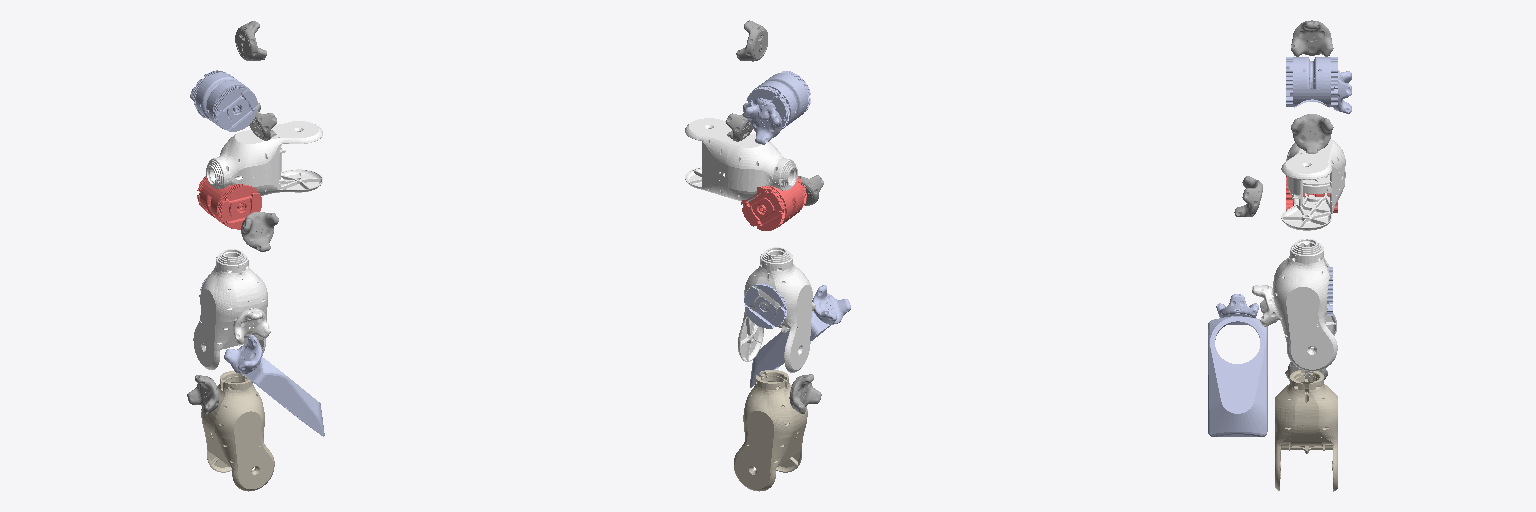
The robot description file, URDF, robot "koko_description_sevendof_kin":
<robot
  name="koko_description_sevendof_kin">
  <link
    name="base_link">
    <inertial>
      <origin
        xyz="0.0560024374186662 0.000189445541681321 0.0201835602327798"
        rpy="0 0 0" />
      <mass
        value="0.284612172465311" />
      <inertia
        ixx="0.000716950374478633"
        ixy="-4.58477843167977E-06"
        ixz="4.20772050305918E-06"
        iyy="0.00197711566495113"
        iyz="9.13561852910004E-07"
        izz="0.00239705630031167" />
    </inertial>
    <visual>
      <origin
        xyz="0 0 0"
        rpy="0 0 0" />
      <geometry>
        <mesh
          filename="package://koko_description_sevendof_kin/meshes/base_link.STL" />
      </geometry>
      <material
        name="">
        <color
          rgba="0.792156862745098 0.819607843137255 0.933333333333333 1" />
      </material>
    </visual>
    <collision>
      <origin
        xyz="0 0 0"
        rpy="0 0 0" />
      <geometry>
        <mesh
          filename="package://koko_description_sevendof_kin/meshes/base_link.STL" />
      </geometry>
    </collision>
  </link>
  <link
    name="shoulder_link">
    <inertial>
      <origin
        xyz="0.00434775413891728 2.01234773867243E-05 -0.0764683318824378"
        rpy="0 0 0" />
      <mass
        value="1.80901122392277" />
      <inertia
        ixx="0.00919374569832913"
        ixy="1.2736226369809E-08"
        ixz="0.000102478650618865"
        iyy="0.0087191738814553"
        iyz="3.26622166776887E-06"
        izz="0.00388062453030108" />
    </inertial>
    <visual>
      <origin
        xyz="0 0 0"
        rpy="0 0 0" />
      <geometry>
        <mesh
          filename="package://koko_description_sevendof_kin/meshes/shoulder_link.STL" />
      </geometry>
      <material
        name="">
        <color
          rgba="0.843137254901961 0.815686274509804 0.752941176470588 1" />
      </material>
    </visual>
    <collision>
      <origin
        xyz="0 0 0"
        rpy="0 0 0" />
      <geometry>
        <mesh
          filename="package://koko_description_sevendof_kin/meshes/shoulder_link.STL" />
      </geometry>
    </collision>
  </link>
  <joint
    name="base_roll_joint"
    type="revolute">
    <origin
      xyz="0 0 0.054356"
      rpy="3.1416 -2.2011E-29 0" />
    <parent
      link="base_link" />
    <child
      link="shoulder_link" />
    <axis
      xyz="0 0 1" />
    <limit
      lower="-2.3412"
      upper="3.3999"
      effort="0"
      velocity="0" />
  </joint>
  <link
    name="shoulder_lift_link">
    <inertial>
      <origin
        xyz="-5.00835590801219E-06 0.000232928456050829 -1.77451392545103E-05"
        rpy="0 0 0" />
      <mass
        value="0.388307108622635" />
      <inertia
        ixx="0.000804272985961787"
        ixy="4.84548777861769E-08"
        ixz="2.09160815704299E-06"
        iyy="0.000818260636171892"
        iyz="-1.44954778547353E-08"
        izz="0.000550840705045093" />
    </inertial>
    <visual>
      <origin
        xyz="0 0 0"
        rpy="0 0 0" />
      <geometry>
        <mesh
          filename="package://koko_description_sevendof_kin/meshes/shoulder_lift_link.STL" />
      </geometry>
      <material
        name="">
        <color
          rgba="0.792156862745098 0.819607843137255 0.933333333333333 1" />
      </material>
    </visual>
    <collision>
      <origin
        xyz="0 0 0"
        rpy="0 0 0" />
      <geometry>
        <mesh
          filename="package://koko_description_sevendof_kin/meshes/shoulder_lift_link.STL" />
      </geometry>
    </collision>
  </link>
  <joint
    name="shoulder_lift_joint"
    type="revolute">
    <origin
      xyz="-0.01143 0 -0.21082"
      rpy="-1.5708 4.4409E-16 3.1416" />
    <parent
      link="shoulder_link" />
    <child
      link="shoulder_lift_link" />
    <axis
      xyz="0 0 1" />
    <limit
      lower="-2.2944"
      upper="0"
      effort="0"
      velocity="0" />
  </joint>
  <link
    name="upper_arm_link">
    <inertial>
      <origin
        xyz="0.00526564882010383 5.32997220916154E-05 -0.0641725544925976"
        rpy="0 0 0" />
      <mass
        value="1.52396434922932" />
      <inertia
        ixx="0.00578789299619112"
        ixy="1.90247544564575E-06"
        ixz="-6.31088150382613E-05"
        iyy="0.00530315640192364"
        iyz="1.26895334967034E-06"
        izz="0.00342501474672849" />
    </inertial>
    <visual>
      <origin
        xyz="0 0 0"
        rpy="0 0 0" />
      <geometry>
        <mesh
          filename="package://koko_description_sevendof_kin/meshes/upper_arm_link.STL" />
      </geometry>
      <material
        name="">
        <color
          rgba="1 1 1 1" />
      </material>
    </visual>
    <collision>
      <origin
        xyz="0 0 0"
        rpy="0 0 0" />
      <geometry>
        <mesh
          filename="package://koko_description_sevendof_kin/meshes/upper_arm_link.STL" />
      </geometry>
    </collision>
  </link>
  <joint
    name="shoulder_roll_joint"
    type="revolute">
    <origin
      xyz="0 0.070147 -6.25E-05"
      rpy="-1.5708 1.5673 -3.1416" />
    <parent
      link="shoulder_lift_link" />
    <child
      link="upper_arm_link" />
    <axis
      xyz="0 0 1" />
    <limit
      lower="-2.6761"
      upper="2.6761"
      effort="0"
      velocity="0" />
  </joint>
  <link
    name="upper_arm_lift_link">
    <inertial>
      <origin
        xyz="9.02313812556343E-09 -0.00233330223507322 -1.63699447163213E-05"
        rpy="0 0 0" />
      <mass
        value="0.336087766639304" />
      <inertia
        ixx="0.000748389835750991"
        ixy="-4.48808711468882E-12"
        ixz="2.09357125066285E-06"
        iyy="0.000805057710272214"
        iyz="-3.6140426110768E-08"
        izz="0.000495723702697915" />
    </inertial>
    <visual>
      <origin
        xyz="0 0 0"
        rpy="0 0 0" />
      <geometry>
        <mesh
          filename="package://koko_description_sevendof_kin/meshes/upper_arm_lift_link.STL" />
      </geometry>
      <material
        name="">
        <color
          rgba="1 0.501960784313725 0.501960784313725 1" />
      </material>
    </visual>
    <collision>
      <origin
        xyz="0 0 0"
        rpy="0 0 0" />
      <geometry>
        <mesh
          filename="package://koko_description_sevendof_kin/meshes/upper_arm_lift_link.STL" />
      </geometry>
    </collision>
  </link>
  <joint
    name="elbow_lift_joint"
    type="revolute">
    <origin
      xyz="-0.01143 -4.0407E-05 -0.18056"
      rpy="-1.5708 -8.5189E-16 -3.1381" />
    <parent
      link="upper_arm_link" />
    <child
      link="upper_arm_lift_link" />
    <axis
      xyz="0 0 1" />
    <limit
      lower="-2.2944"
      upper="0"
      effort="0"
      velocity="0" />
  </joint>
  <link
    name="forearm_link">
    <inertial>
      <origin
        xyz="0.00527282221737166 2.49933774366662E-05 -0.0641725728670135"
        rpy="0 0 0" />
      <mass
        value="1.52407731945949" />
      <inertia
        ixx="0.00578819901338735"
        ixy="5.17112689441557E-07"
        ixz="-6.28277548639294E-05"
        iyy="0.00530319085441348"
        iyz="1.13324488016115E-06"
        izz="0.003425664708797" />
    </inertial>
    <visual>
      <origin
        xyz="0 0 0"
        rpy="0 0 0" />
      <geometry>
        <mesh
          filename="package://koko_description_sevendof_kin/meshes/forearm_link.STL" />
      </geometry>
      <material
        name="">
        <color
          rgba="1 1 1 1" />
      </material>
    </visual>
    <collision>
      <origin
        xyz="0 0 0"
        rpy="0 0 0" />
      <geometry>
        <mesh
          filename="package://koko_description_sevendof_kin/meshes/forearm_link.STL" />
      </geometry>
    </collision>
  </link>
  <joint
    name="elbow_roll_joint"
    type="revolute">
    <origin
      xyz="0 0.070147 -6.25E-05"
      rpy="1.5708 -1.5708 0" />
    <parent
      link="upper_arm_lift_link" />
    <child
      link="forearm_link" />
    <axis
      xyz="0 0 1" />
    <limit
      lower="-2.6761"
      upper="2.6761"
      effort="0"
      velocity="0" />
  </joint>
  <link
    name="wrist_lift_link">
    <inertial>
      <origin
        xyz="-5.00411762238695E-06 0.000232915119171451 -1.7745294652205E-05"
        rpy="0 0 0" />
      <mass
        value="0.388307109282073" />
      <inertia
        ixx="0.000804243894521224"
        ixy="4.84475071376708E-08"
        ixz="2.09169568931598E-06"
        iyy="0.000818231333102983"
        iyz="-1.44598250552623E-08"
        izz="0.000550840471771904" />
    </inertial>
    <visual>
      <origin
        xyz="0 0 0"
        rpy="0 0 0" />
      <geometry>
        <mesh
          filename="package://koko_description_sevendof_kin/meshes/wrist_lift_link.STL" />
      </geometry>
      <material
        name="">
        <color
          rgba="0.792156862745098 0.819607843137255 0.933333333333333 1" />
      </material>
    </visual>
    <collision>
      <origin
        xyz="0 0 0"
        rpy="0 0 0" />
      <geometry>
        <mesh
          filename="package://koko_description_sevendof_kin/meshes/wrist_lift_link.STL" />
      </geometry>
    </collision>
  </link>
  <joint
    name="wrist_lift_joint"
    type="revolute">
    <origin
      xyz="-0.01143 0 -0.18056"
      rpy="-1.5708 6.6613E-16 -3.1416" />
    <parent
      link="forearm_link" />
    <child
      link="wrist_lift_link" />
    <axis
      xyz="0 0 1" />
    <limit
      lower="-2.2944"
      upper="0"
      effort="0"
      velocity="0" />
  </joint>
  <link
    name="wrist_roll_link">
    <inertial>
      <origin
        xyz="-7.00549073777146E-05 2.51271935266528E-05 -0.0523671181891625"
        rpy="0 0 0" />
      <mass
        value="0.247109755986862" />
      <inertia
        ixx="0.000916887873827195"
        ixy="-6.04547948816719E-08"
        ixz="1.67961333682177E-06"
        iyy="0.000877268801167164"
        iyz="5.6417290777793E-07"
        izz="0.000293333065172454" />
    </inertial>
    <visual>
      <origin
        xyz="0 0 0"
        rpy="0 0 0" />
      <geometry>
        <mesh
          filename="package://koko_description_sevendof_kin/meshes/wrist_roll_link.STL" />
      </geometry>
      <material
        name="">
        <color
          rgba="0.792156862745098 0.819607843137255 0.933333333333333 1" />
      </material>
    </visual>
    <collision>
      <origin
        xyz="0 0 0"
        rpy="0 0 0" />
      <geometry>
        <mesh
          filename="package://koko_description_sevendof_kin/meshes/wrist_roll_link.STL" />
      </geometry>
    </collision>
  </link>
  <joint
    name="wrist_roll_joint"
    type="revolute">
    <origin
      xyz="0 0.070147 -6.25E-05"
      rpy="-1.5708 -2.4803E-15 -3.1416" />
    <parent
      link="wrist_lift_link" />
    <child
      link="wrist_roll_link" />
    <axis
      xyz="0 0 1" />
    <limit
      lower="-2.6761"
      upper="2.6761"
      effort="0"
      velocity="0" />
  </joint>
  <link
    name="ee_tracker_link">
    <inertial>
      <origin
        xyz="-4.73940065248701E-07 3.04586797140738E-05 0.0143118417239115"
        rpy="0 0 0" />
      <mass
        value="0.0852058039712401" />
      <inertia
        ixx="5.0259516630547E-05"
        ixy="3.41903744941637E-09"
        ixz="9.8857833284579E-10"
        iyy="5.05436854509982E-05"
        iyz="-1.54406890921037E-07"
        izz="8.48822662474321E-05" />
    </inertial>
    <visual>
      <origin
        xyz="0 0 0"
        rpy="0 0 0" />
      <geometry>
        <mesh
          filename="package://koko_description_sevendof_kin/meshes/ee_tracker_link.STL" />
      </geometry>
      <material
        name="">
        <color
          rgba="0.698039215686274 0.698039215686274 0.698039215686274 1" />
      </material>
    </visual>
    <collision>
      <origin
        xyz="0 0 0"
        rpy="0 0 0" />
      <geometry>
        <mesh
          filename="package://koko_description_sevendof_kin/meshes/ee_tracker_link.STL" />
      </geometry>
    </collision>
  </link>
  <joint
    name="ee_tracker_joint"
    type="fixed">
    <origin
      xyz="0.046598 0 -0.063817"
      rpy="1.5708 -3.5235E-05 1.5708" />
    <parent
      link="wrist_roll_link" />
    <child
      link="ee_tracker_link" />
    <axis
      xyz="0 0 0" />
  </joint>
  <link
    name="forearm_tracker_link">
    <inertial>
      <origin
        xyz="-4.73830448044499E-07 3.04661652350546E-05 0.0143118347178398"
        rpy="0 0 0" />
      <mass
        value="0.0852058014578218" />
      <inertia
        ixx="5.02595074997048E-05"
        ixy="3.4435026332835E-09"
        ixz="9.88250535480481E-10"
        iyy="5.05436666423682E-05"
        iyz="-1.54400221407407E-07"
        izz="8.48822330921912E-05" />
    </inertial>
    <visual>
      <origin
        xyz="0 0 0"
        rpy="0 0 0" />
      <geometry>
        <mesh
          filename="package://koko_description_sevendof_kin/meshes/forearm_tracker_link.STL" />
      </geometry>
      <material
        name="">
        <color
          rgba="0.698039215686274 0.698039215686274 0.698039215686274 1" />
      </material>
    </visual>
    <collision>
      <origin
        xyz="0 0 0"
        rpy="0 0 0" />
      <geometry>
        <mesh
          filename="package://koko_description_sevendof_kin/meshes/forearm_tracker_link.STL" />
      </geometry>
    </collision>
  </link>
  <joint
    name="forearm_tracker_joint"
    type="fixed">
    <origin
      xyz="0.0687486075198113 2.87912553707526E-05 -0.0962935677600952"
      rpy="-1.88130485518218 2.27414328835253E-05 -1.57080362425475" />
    <parent
      link="forearm_link" />
    <child
      link="forearm_tracker_link" />
    <axis
      xyz="0 0 0" />
  </joint>
  <link
    name="upper_arm_tracker_link">
    <inertial>
      <origin
        xyz="-1.19505712214973E-06 3.05223737283589E-05 0.0143119706010131"
        rpy="0 0 0" />
      <mass
        value="0.0852087902897732" />
      <inertia
        ixx="5.02595864956216E-05"
        ixy="3.39166062366786E-09"
        ixz="1.48676133787704E-09"
        iyy="5.05469592107743E-05"
        iyz="-1.5446605587756E-07"
        izz="8.48854441225334E-05" />
    </inertial>
    <visual>
      <origin
        xyz="0 0 0"
        rpy="0 0 0" />
      <geometry>
        <mesh
          filename="package://koko_description_sevendof_kin/meshes/upper_arm_tracker_link.STL" />
      </geometry>
      <material
        name="">
        <color
          rgba="0.698039215686274 0.698039215686274 0.698039215686274 1" />
      </material>
    </visual>
    <collision>
      <origin
        xyz="0 0 0"
        rpy="0 0 0" />
      <geometry>
        <mesh
          filename="package://koko_description_sevendof_kin/meshes/upper_arm_tracker_link.STL" />
      </geometry>
    </collision>
  </link>
  <joint
    name="upper_arm_tracker_joint"
    type="fixed">
    <origin
      xyz="0.0687480716074886 0.000271826226759544 -0.0962935663002703"
      rpy="-1.88130485518218 2.2741432881685E-05 -1.56726848834151" />
    <parent
      link="upper_arm_link" />
    <child
      link="upper_arm_tracker_link" />
    <axis
      xyz="0 0 0" />
  </joint>
  <link
    name="base_tracker_link">
    <inertial>
      <origin
        xyz="-4.7347340514925E-07 3.04616810627573E-05 0.0143118364997656"
        rpy="0 0 0" />
      <mass
        value="0.0852057942640298" />
      <inertia
        ixx="5.0259498883008E-05"
        ixy="3.42092835535841E-09"
        ixz="9.8727999328487E-10"
        iyy="5.05436695272946E-05"
        iyz="-1.54423407632223E-07"
        izz="8.48822557420874E-05" />
    </inertial>
    <visual>
      <origin
        xyz="0 0 0"
        rpy="0 0 0" />
      <geometry>
        <mesh
          filename="package://koko_description_sevendof_kin/meshes/base_tracker_link.STL" />
      </geometry>
      <material
        name="">
        <color
          rgba="0.698039215686274 0.698039215686274 0.698039215686274 1" />
      </material>
    </visual>
    <collision>
      <origin
        xyz="0 0 0"
        rpy="0 0 0" />
      <geometry>
        <mesh
          filename="package://koko_description_sevendof_kin/meshes/base_tracker_link.STL" />
      </geometry>
    </collision>
  </link>
  <joint
    name="base_tracker_joint"
    type="fixed">
    <origin
      xyz="-0.0646197009318908 0 0.0403859991257779"
      rpy="-1.57079632679489 -3.56673679882293E-18 1.57079632679489" />
    <parent
      link="base_link" />
    <child
      link="base_tracker_link" />
    <axis
      xyz="0 0 0" />
  </joint>
  <link
    name="gripper_link">
    <inertial>
      <origin
        xyz="-7.00549073506807E-05 2.51271935254316E-05 -0.052367118189184"
        rpy="0 0 0" />
      <mass
        value="0.047109755986862" />
      <inertia
        ixx="0.000916887873826385"
        ixy="-6.04547948818479E-08"
        ixz="0.6796133363069E-06"
        iyy="0.000877268801166351"
        iyz="0.64172907801915E-07"
        izz="0.000293333065172452" />
    </inertial>
    <visual>
      <origin
        xyz="0 0 0"
        rpy="0 0 0" />
      <geometry>
        <mesh
          filename="package://koko_description_sevendof_dyn/meshes/wrist_roll_link.STL" />
      </geometry>
      <material
        name="">
        <color
          rgba="0.792156862745098 0.819607843137255 0.933333333333333 1" />
      </material>
    </visual>
    <collision>
      <origin
        xyz="0 0 0"
        rpy="0 0 0" />
      <geometry>
        <mesh
          filename="package://koko_description_sevendof_dyn/meshes/wrist_roll_link.STL" />
      </geometry>
    </collision>
  </link>
  <joint
    name="gripper_joint"
    type="revolute">
    <origin
      xyz="0 0.070147 -6.25E-05"
      rpy="-1.5708 -2.4803E-15 -3.1416" />
    <parent
      link="wrist_roll_link" />
    <child
      link="gripper_link" />
    <axis
      xyz="0 0 1" />
    <limit
      lower="-2.6761"
      upper="2.6761"
      effort="0"
      velocity="0" />
  </joint>
</robot>

--- Facts derived from the render (not from the file) ---
Views: 3 orthographic renders of the robot side by side, from view 1: azimuth 30°, elevation 25°; view 2: azimuth 150°, elevation 25°; view 3: azimuth 270°, elevation 25°.
Model koko_description_sevendof_kin with 13 links and 12 joints (8 revolute, 4 fixed), rooted at base_link, posed all joints at 0.
Links seen in each view (by area): view 1: upper_arm_link, shoulder_link, forearm_link, base_link, wrist_lift_link, upper_arm_lift_link, upper_arm_tracker_link, ee_tracker_link, base_tracker_link, forearm_tracker_link; view 2: shoulder_link, forearm_link, upper_arm_link, base_link, upper_arm_lift_link, wrist_lift_link, shoulder_lift_link, wrist_roll_link, ee_tracker_link, base_tracker_link, forearm_tracker_link; view 3: upper_arm_link, base_link, shoulder_link, forearm_link, wrist_lift_link, forearm_tracker_link, ee_tracker_link, upper_arm_tracker_link.
Boxes of the visible links, x1=… form: upper_arm_link: x1=193, y1=249, x2=270, y2=369; shoulder_link: x1=201, y1=371, x2=274, y2=491; forearm_link: x1=206, y1=121, x2=322, y2=195; base_link: x1=224, y1=334, x2=324, y2=436; wrist_lift_link: x1=193, y1=70, x2=257, y2=131; upper_arm_lift_link: x1=197, y1=176, x2=261, y2=229; upper_arm_tracker_link: x1=241, y1=212, x2=278, y2=251; ee_tracker_link: x1=235, y1=21, x2=266, y2=60; base_tracker_link: x1=187, y1=375, x2=218, y2=414; forearm_tracker_link: x1=249, y1=103, x2=276, y2=140; shoulder_link: x1=734, y1=370, x2=807, y2=491; forearm_link: x1=685, y1=118, x2=797, y2=201; upper_arm_link: x1=738, y1=247, x2=815, y2=372; base_link: x1=750, y1=285, x2=850, y2=387; upper_arm_lift_link: x1=741, y1=177, x2=806, y2=230; wrist_lift_link: x1=746, y1=71, x2=810, y2=129; shoulder_lift_link: x1=744, y1=281, x2=786, y2=328; wrist_roll_link: x1=743, y1=104, x2=781, y2=144; ee_tracker_link: x1=736, y1=20, x2=767, y2=61; base_tracker_link: x1=789, y1=374, x2=821, y2=413; forearm_tracker_link: x1=726, y1=103, x2=752, y2=141; upper_arm_link: x1=1252, y1=239, x2=1337, y2=371; base_link: x1=1208, y1=294, x2=1267, y2=436; shoulder_link: x1=1275, y1=370, x2=1337, y2=491; forearm_link: x1=1281, y1=139, x2=1345, y2=230; wrist_lift_link: x1=1286, y1=57, x2=1337, y2=107; forearm_tracker_link: x1=1291, y1=114, x2=1333, y2=153; ee_tracker_link: x1=1291, y1=20, x2=1333, y2=56; upper_arm_tracker_link: x1=1234, y1=176, x2=1262, y2=216.
Size in the robot's own frame: 0.3292 by 0.3162 by 1.15 metres.
Meshes: 13 distinct files referenced, 13 mesh visuals loaded (13 binary STL).
